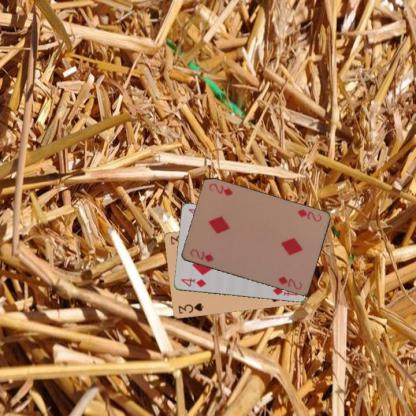2d: (187, 246, 215, 264), (295, 206, 322, 223)
3s: (176, 300, 204, 316)
4d: (178, 275, 207, 289)
